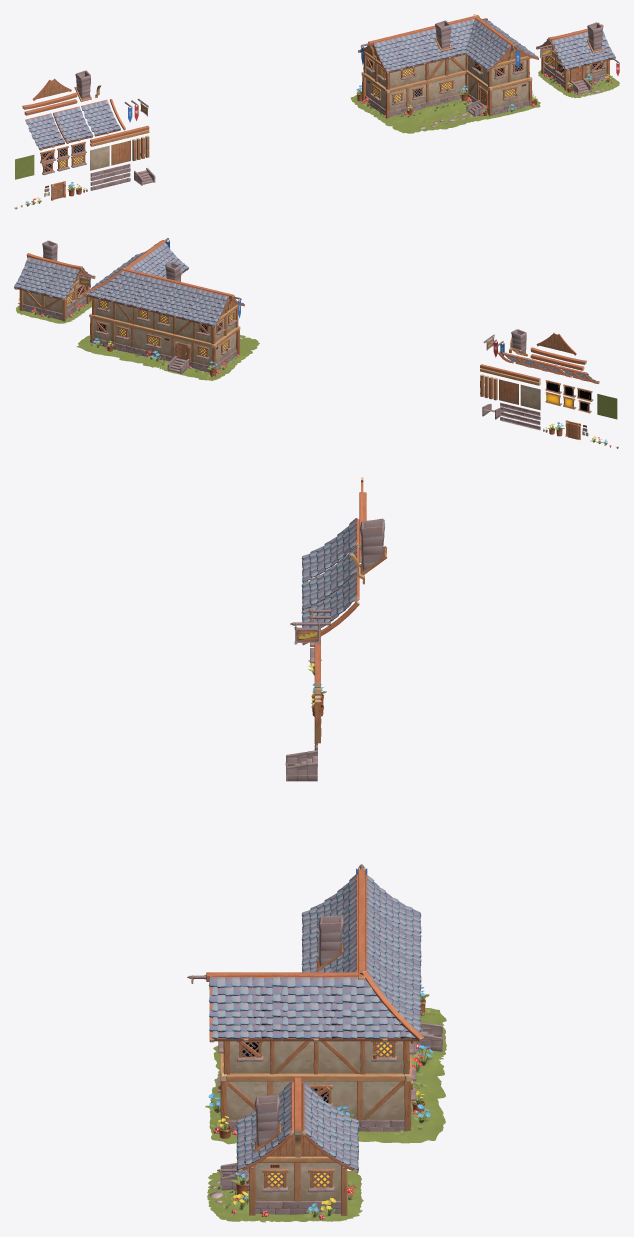
Rendered from Stylized_House_Scene.fbx.
The picture shows the model from 3 angles, top to bottom: view 1: azimuth 30°, elevation 25°; view 2: azimuth 150°, elevation 25°; view 3: azimuth 270°, elevation 25°; orthographic projection. The views are drawn at different scales.
Visible parts, largest first — view 1: Stylized_House_Large, Stylized_House_Small, Stylized_House_Modular_Roof2, Stylized_House_Modular_Roof1, Stylized_House_Modular_Roof3, Stylized_House_Modular_Chimney, Stylized_House_Modular_Wall2, Stylized_House_Modular_Grass, Stylized_House_Modular_Wall1, Stylized_House_Modular_Roof_Side, Stylized_House_Modular_RoofTop_Curved; view 2: Stylized_House_Large, Stylized_House_Small, Stylized_House_Modular_Wall1, Stylized_House_Modular_Grass, Stylized_House_Modular_Wall2, Stylized_House_Modular_Roof_Side, Stylized_House_Modular_Chimney; view 3: Stylized_House_Large, Stylized_House_Small, Stylized_House_Modular_Roof1, Stylized_House_Modular_Roof2, Stylized_House_Modular_Roof3, Stylized_House_Modular_Chimney.
Boxes of the visible parts, bbox=[...] form: Stylized_House_Large: bbox=[350, 14, 540, 133]; Stylized_House_Small: bbox=[536, 22, 619, 97]; Stylized_House_Modular_Roof2: bbox=[53, 106, 93, 143]; Stylized_House_Modular_Roof1: bbox=[25, 113, 64, 150]; Stylized_House_Modular_Roof3: bbox=[81, 99, 120, 136]; Stylized_House_Modular_Chimney: bbox=[74, 70, 91, 101]; Stylized_House_Modular_Wall2: bbox=[111, 140, 130, 165]; Stylized_House_Modular_Grass: bbox=[15, 155, 34, 179]; Stylized_House_Modular_Wall1: bbox=[90, 145, 109, 170]; Stylized_House_Modular_Roof_Side: bbox=[32, 78, 71, 100]; Stylized_House_Modular_RoofTop_Curved: bbox=[22, 92, 77, 109]; Stylized_House_Large: bbox=[76, 238, 259, 380]; Stylized_House_Small: bbox=[14, 240, 95, 323]; Stylized_House_Modular_Wall1: bbox=[520, 384, 540, 410]; Stylized_House_Modular_Grass: bbox=[597, 394, 617, 419]; Stylized_House_Modular_Wall2: bbox=[499, 379, 518, 404]; Stylized_House_Modular_Roof_Side: bbox=[536, 332, 576, 355]; Stylized_House_Modular_Chimney: bbox=[510, 329, 527, 356]; Stylized_House_Large: bbox=[187, 864, 446, 1144]; Stylized_House_Small: bbox=[207, 1077, 363, 1222]; Stylized_House_Modular_Roof1: bbox=[301, 518, 359, 582]; Stylized_House_Modular_Roof2: bbox=[301, 545, 359, 610]; Stylized_House_Modular_Roof3: bbox=[301, 572, 359, 627]; Stylized_House_Modular_Chimney: bbox=[359, 518, 387, 574].
Bounding box in the file's own units: 8108 × 1465 × 1555.
